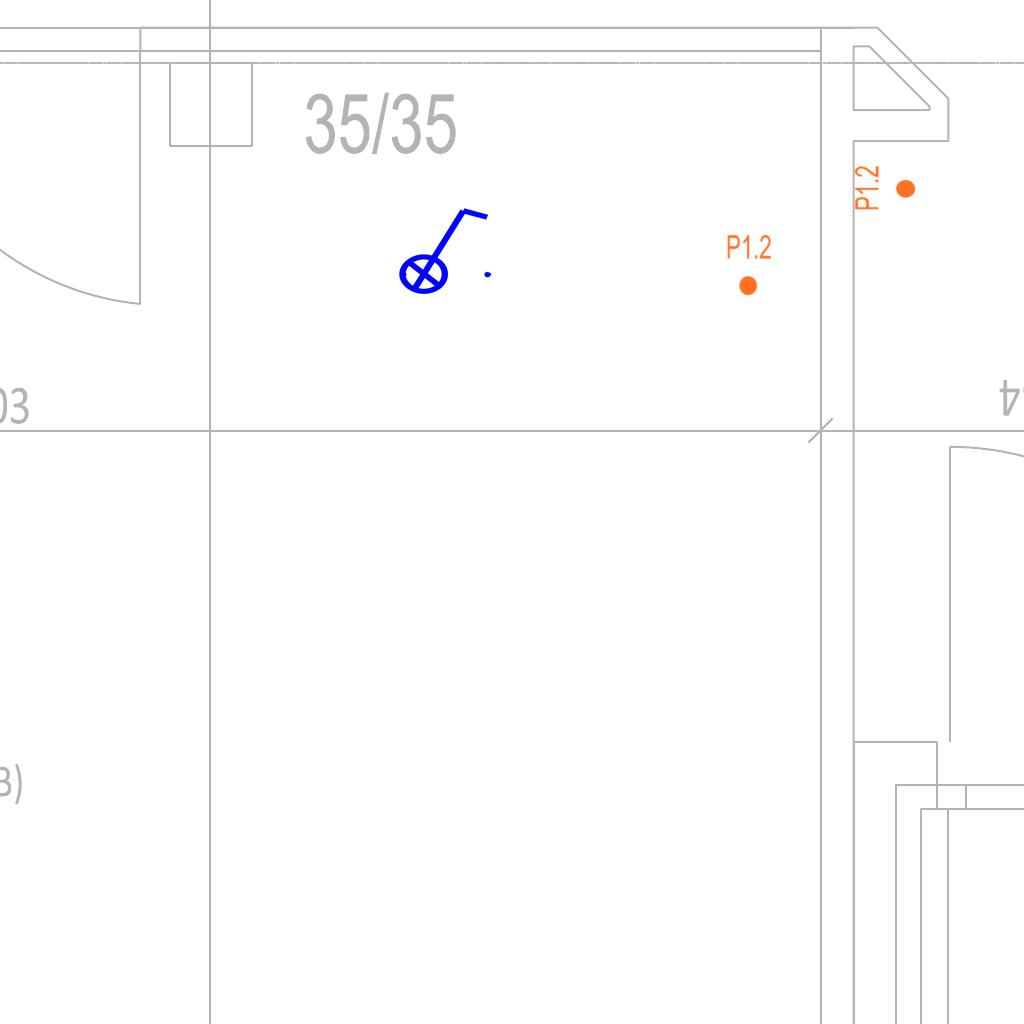Ausschalter_beleuchtet: (385, 200, 497, 296)
Downlight_LED_Einbauleuchten_Flur: (853, 165, 917, 211), (726, 233, 772, 297)
